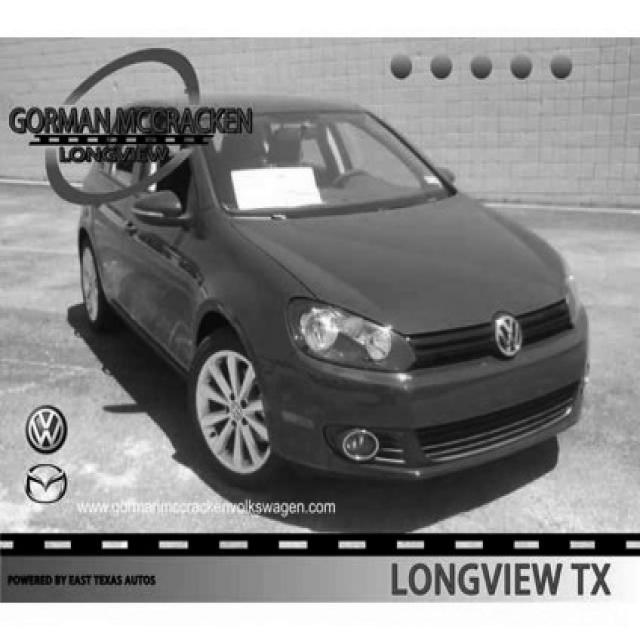car: (76, 89, 590, 487)
